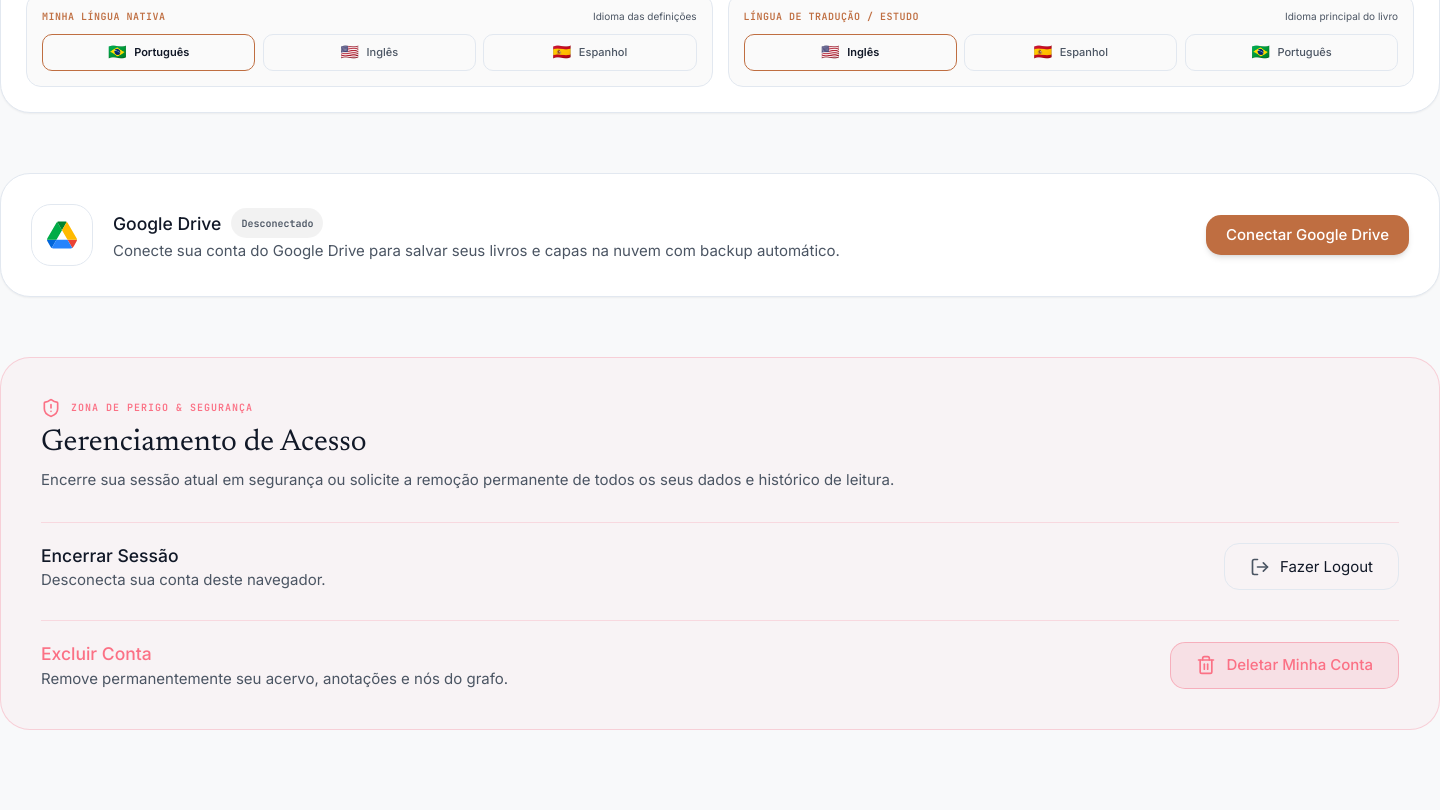
Scenario: Conta Page (/conta) › opens delete modal and enables delete button only when phrase is correctly typed
(page scrolled)
Clica em Deletar Minha Conta
Click the button with test id "open-delete-modal-btn".
click(1285, 665)  # box [1170,642,1399,689]
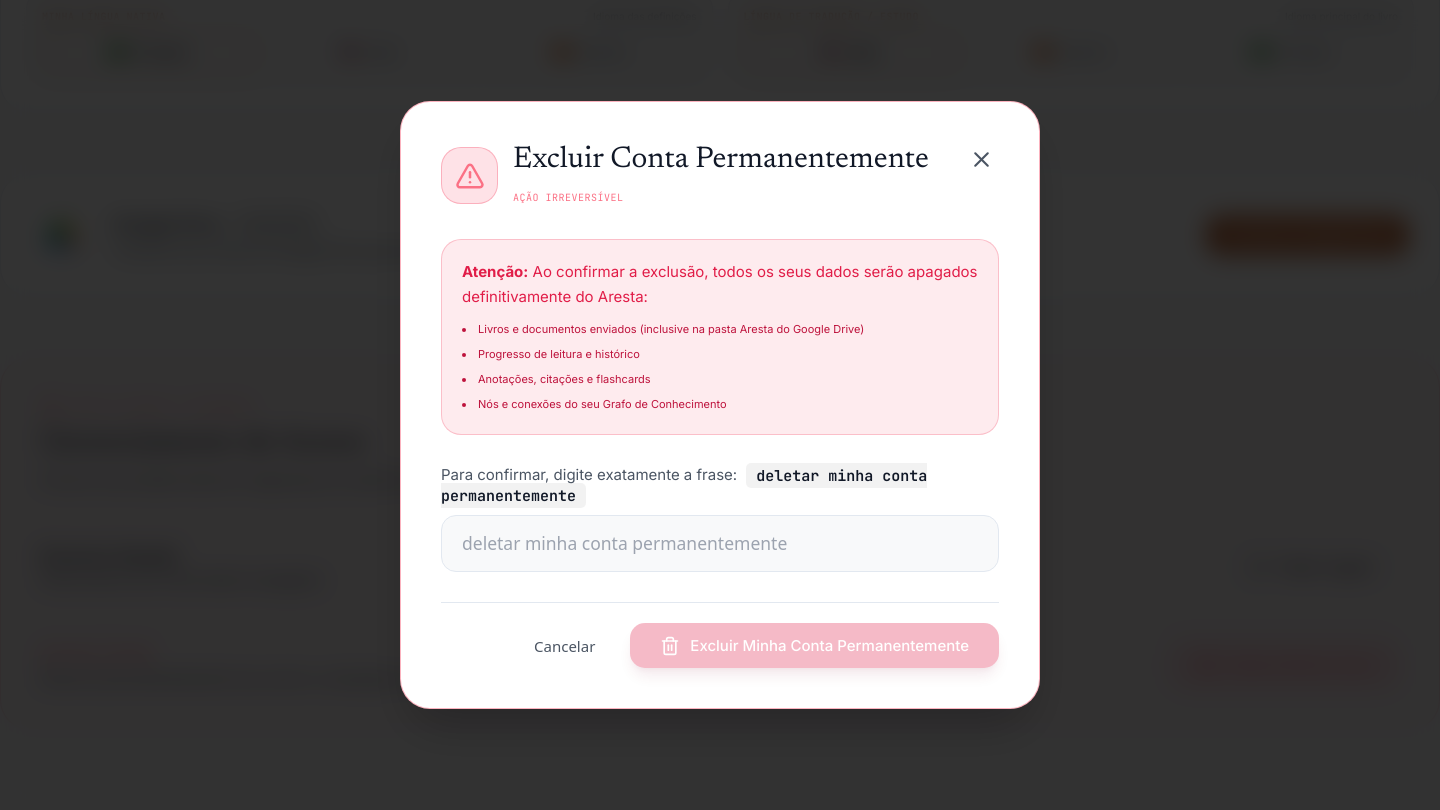
Now the field with test id "delete-confirmation-input" is shown
Now the button with test id "confirm-delete-account-btn" is disabled, box [630,623,999,668]
Digita frase errada
Type "deletar conta" into the field with test id "delete-confirmation-input".
click(720, 544); type("deletar conta")  # box [441,515,999,572]
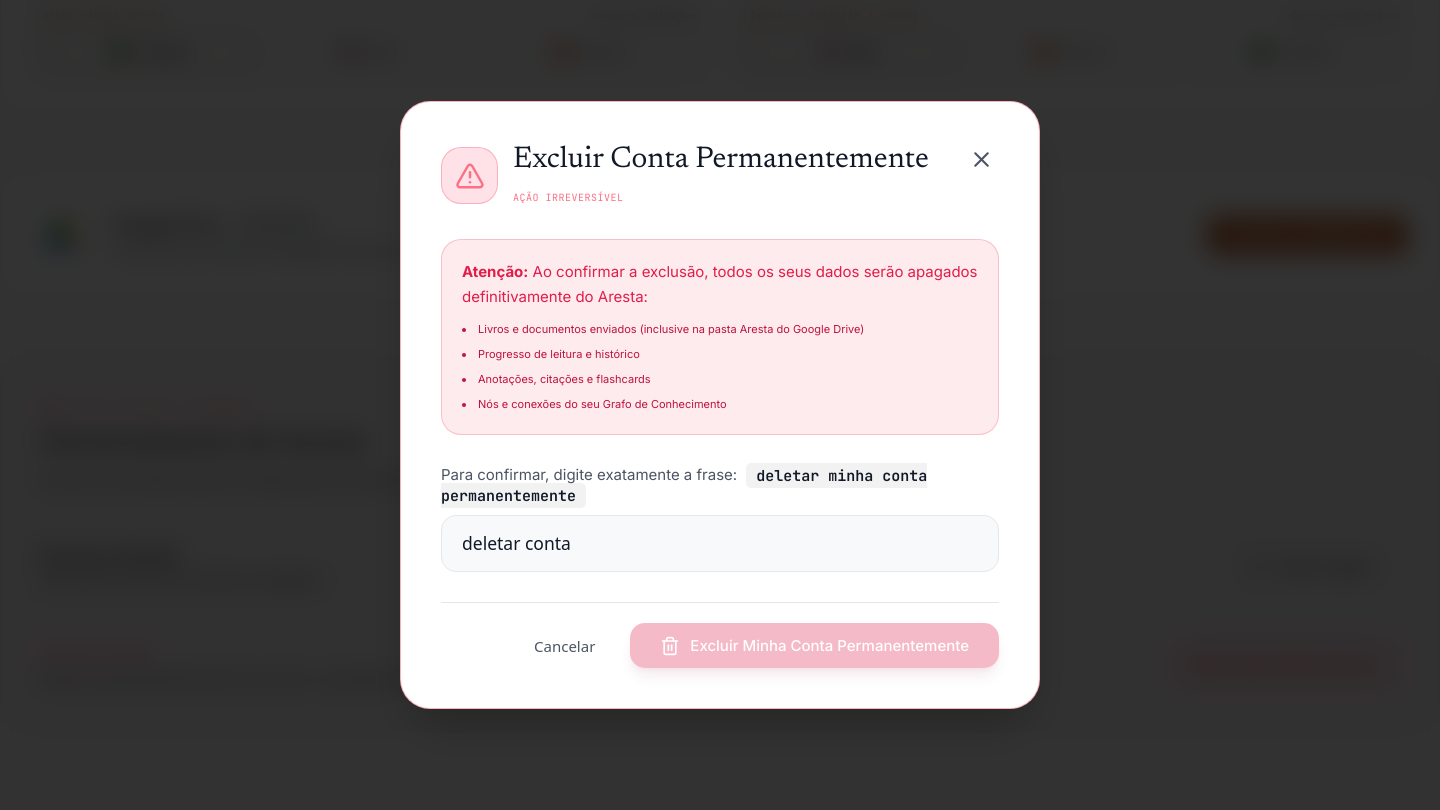
Now the button with test id "confirm-delete-account-btn" is disabled, box [630,623,999,668]
Digita frase exata
Replace the text in the field with test id "delete-confirmation-input" with "deletar minha conta permanentemente" at {"x": 720, "y": 544}, box [441,515,999,572]
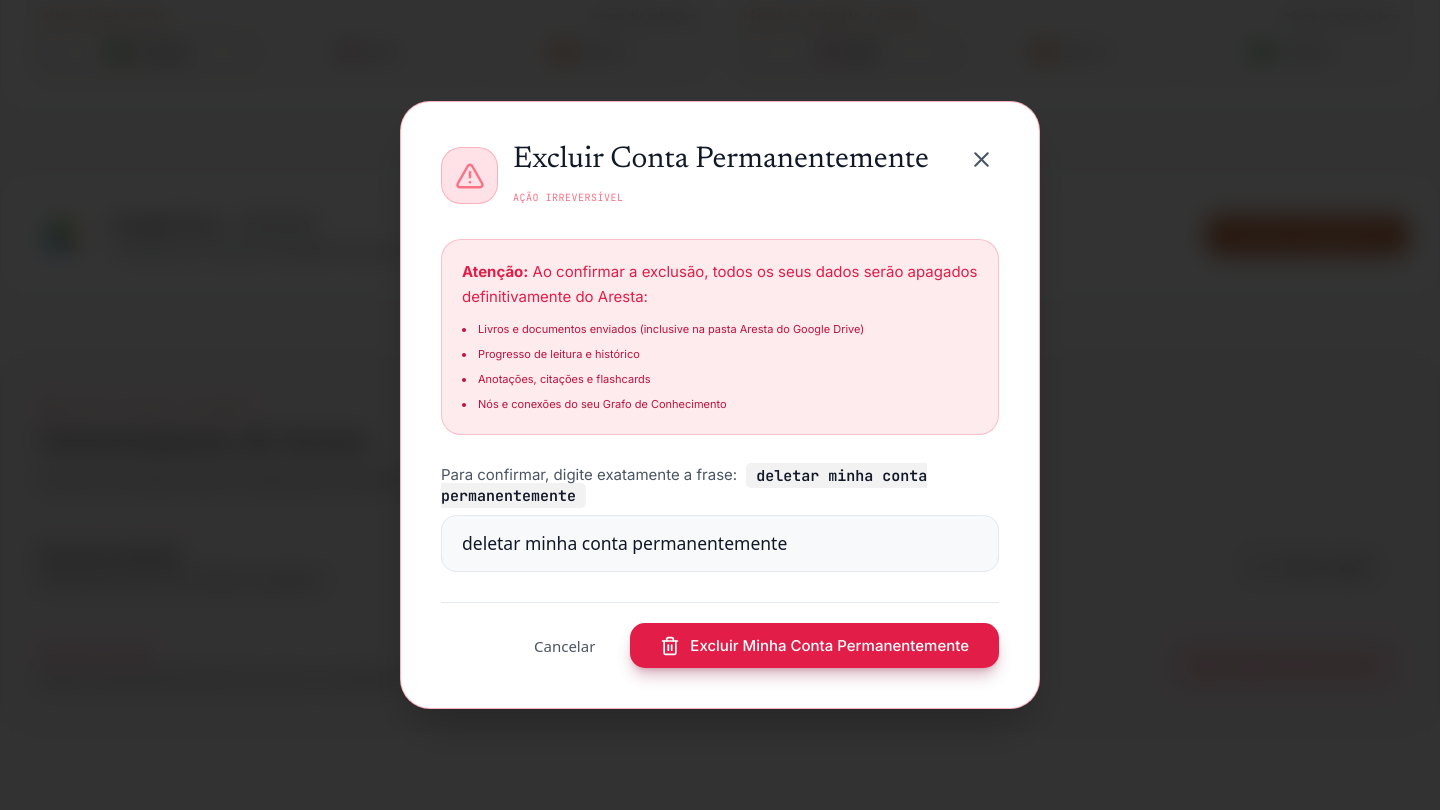
Now the button with test id "confirm-delete-account-btn" is enabled, box [630,623,999,668]
